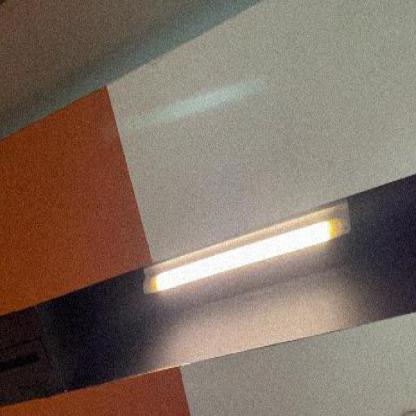light_on: (133, 178, 355, 310)
